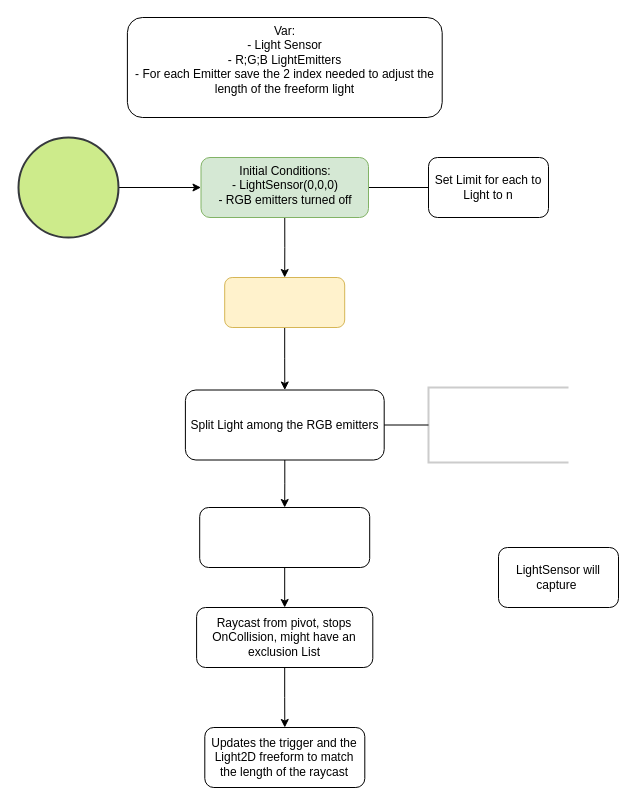
Some shapes in this 636 by 805 pixel diagram are drawn without their labels. The shapes that lost their labels are listed below. From the top down, each one's box as (x1, y1, x2, y2) in pixels, then its label:
(17, 136, 119, 238): Start
(224, 276, 345, 328): Light Changed
(427, 386, 569, 463): intensity depends on the limit, if intensity == max, then we have the max value
(199, 506, 370, 568): Each emitter receives the dust quantities corresponding to their color
